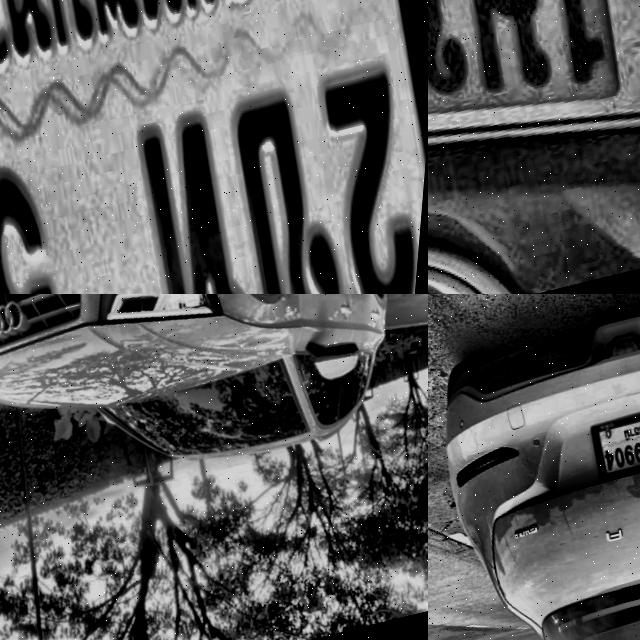license-plate: (0, 0, 428, 294), (428, 0, 640, 281), (589, 405, 640, 482)
